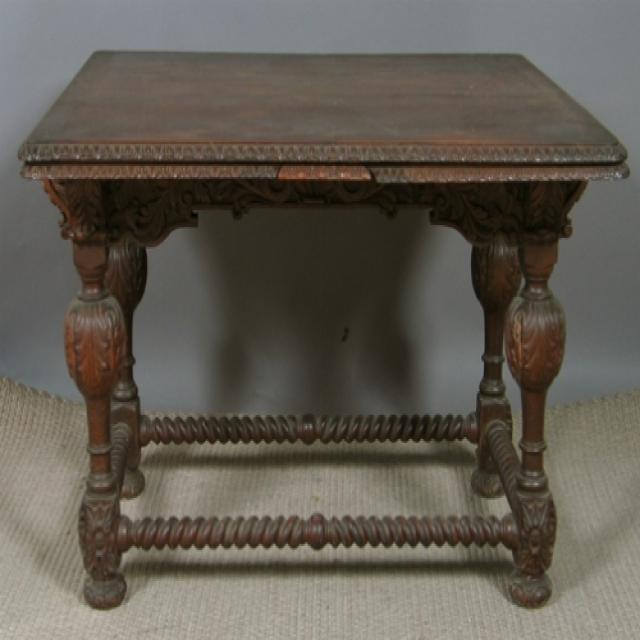table: (20, 50, 630, 609)
